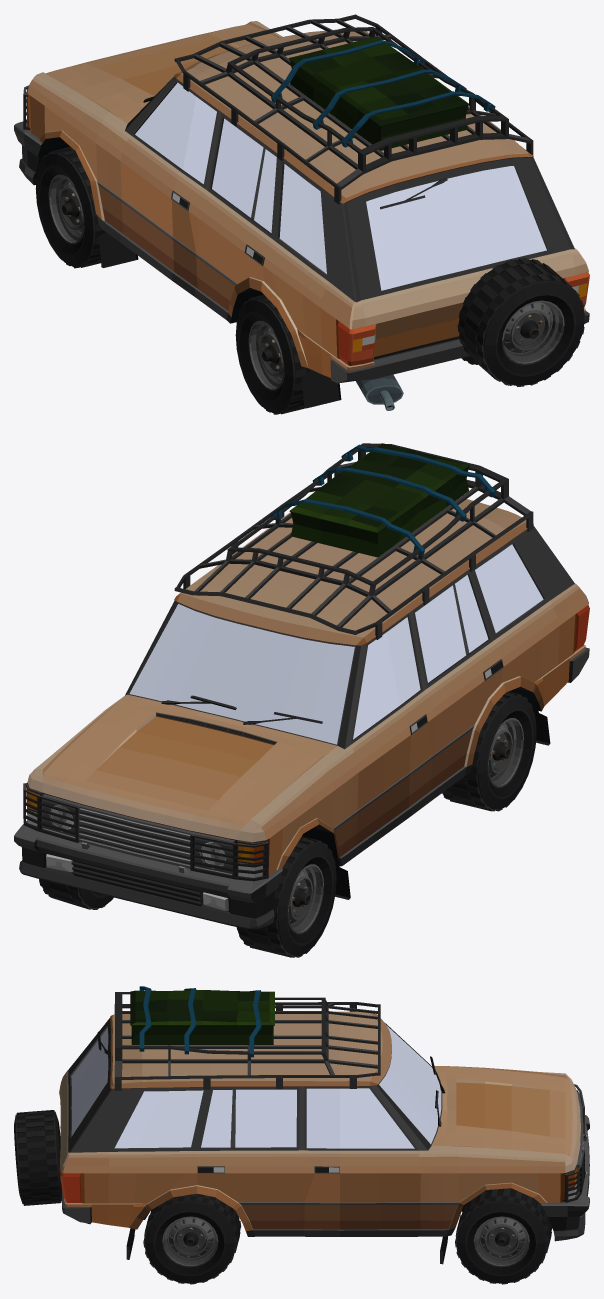
3 renders of one model, top to bottom at view 1: azimuth 30°, elevation 25°; view 2: azimuth 150°, elevation 25°; view 3: azimuth 270°, elevation 25°, orthographic. The views are drawn at different scales.
Parts seen in each view (by area): view 1: body:Texture, body:Glass, wm (×2); view 2: body:Texture, body:Glass, wm (×3); view 3: body:Texture, body:Glass, wm (×2).
Part boxes in pixels (bbox=[...]): body:Texture: bbox=[14, 14, 589, 410]; body:Glass: bbox=[135, 82, 546, 290]; wm (×2): bbox=[35, 146, 309, 414]; body:Texture: bbox=[14, 443, 589, 929]; body:Glass: bbox=[129, 544, 543, 744]; wm (×3): bbox=[39, 691, 536, 957]; body:Texture: bbox=[14, 986, 589, 1264]; body:Glass: bbox=[71, 1026, 441, 1148]; wm (×2): bbox=[143, 1188, 552, 1284].
Bounding box in the file's own units: 1.82 × 2.1 × 4.67.
